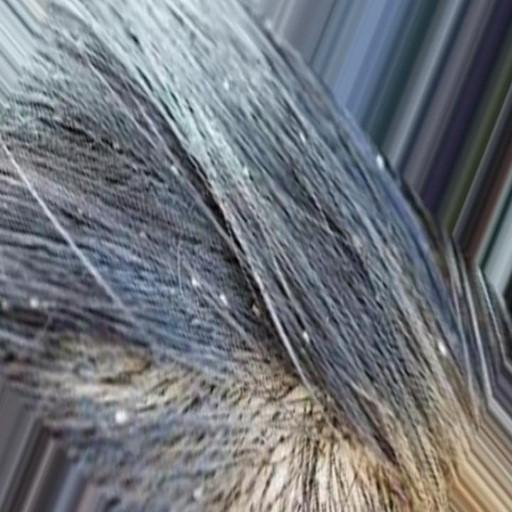Head_Lice: (245, 299, 265, 320), (298, 330, 315, 350), (438, 340, 450, 364), (375, 152, 387, 174), (218, 295, 232, 312)
